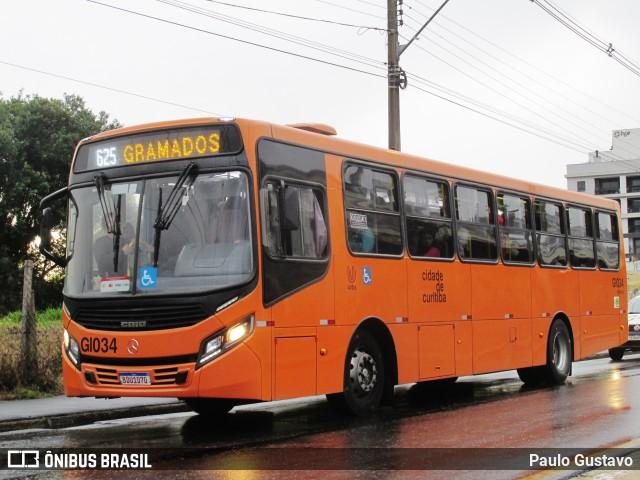GRAMADOS: (119, 129, 223, 167)
